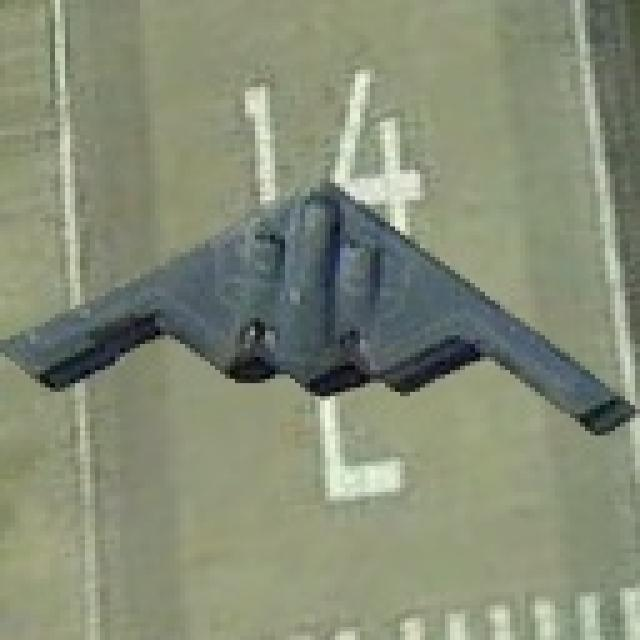B-2_TopDown: (0, 170, 635, 440)
